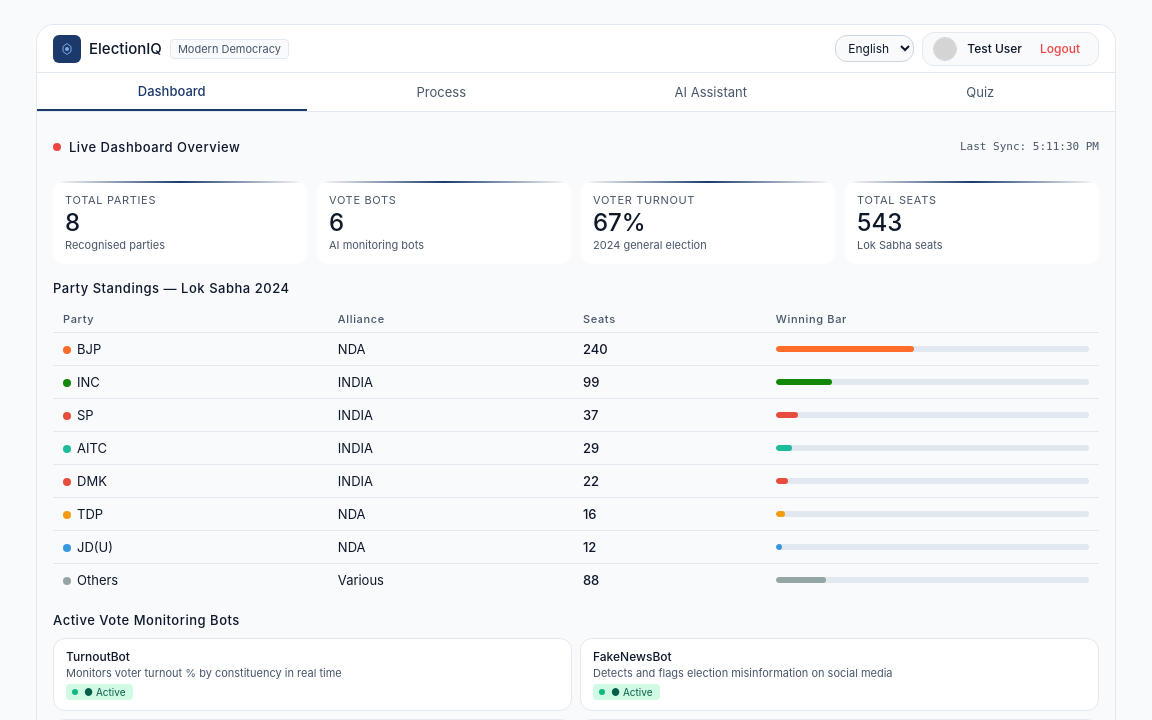
shows a friendly error message when the AI endpoint returns a failure
This screenshot has width=1152, height=720.
Click the tab "AI Assistant" at (711, 92), box [576,73,846,111]
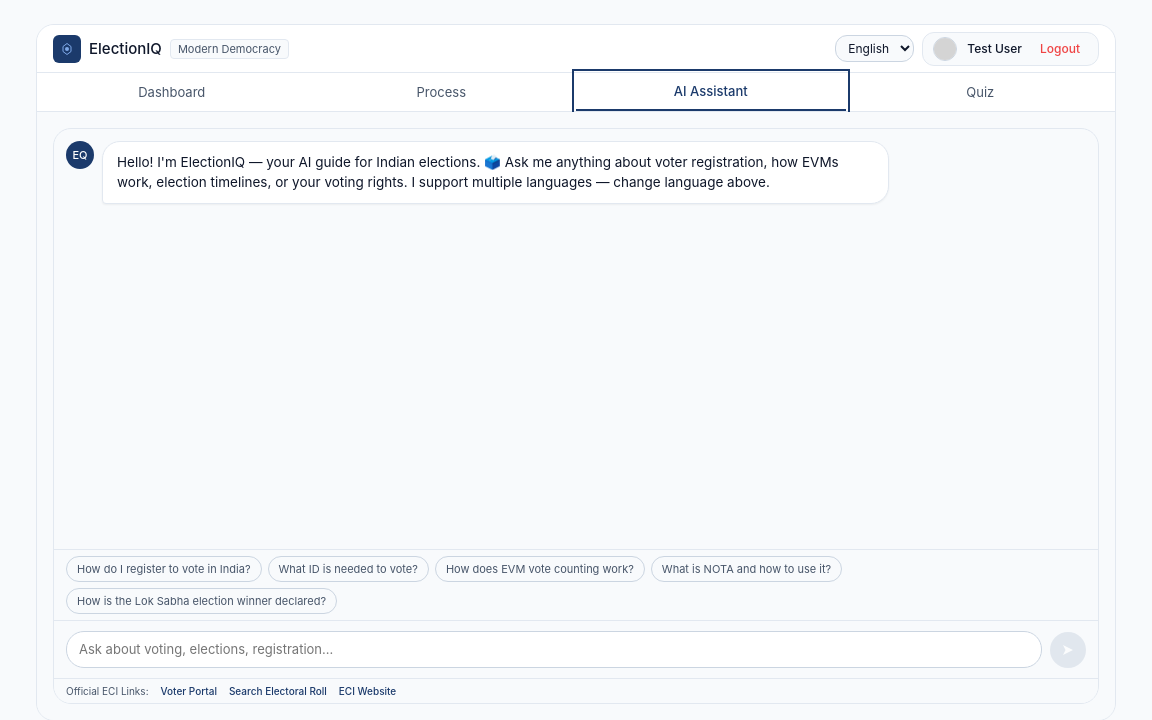
Type "Test error prompt" into the text box with placeholder "Ask about voting, elections, registration…" at (554, 649), box [66,630,1042,668]
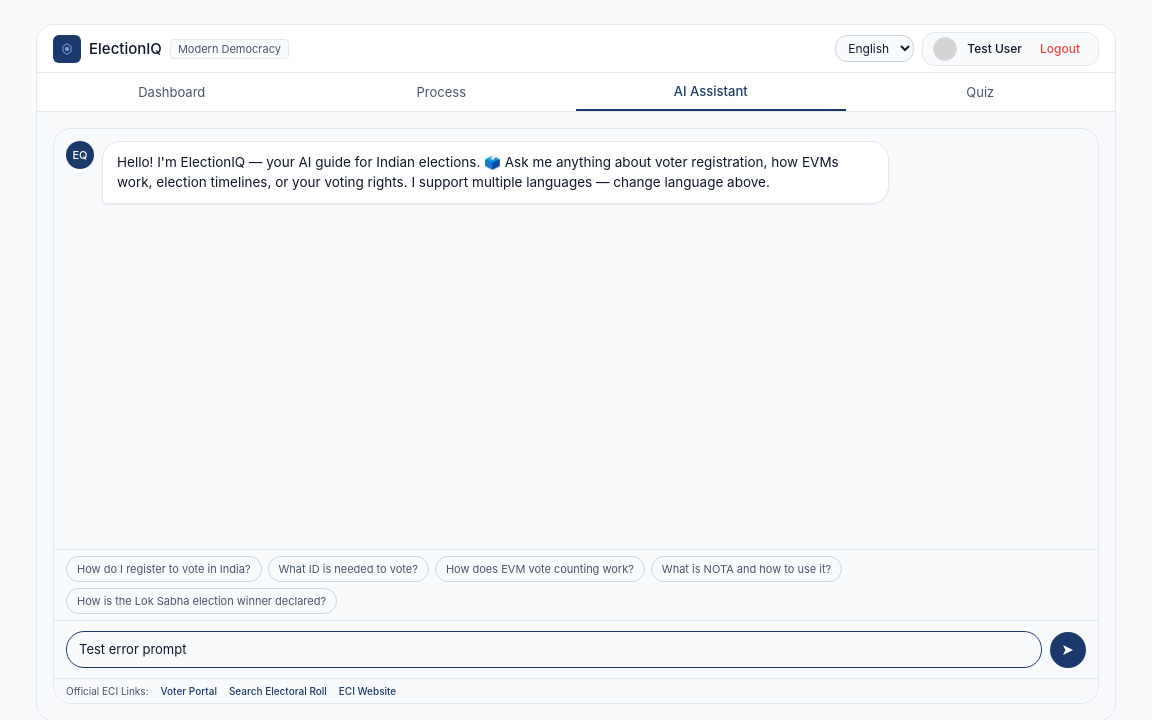
Click the button named "Send message" at (1068, 650), box [1050,632,1086,668]
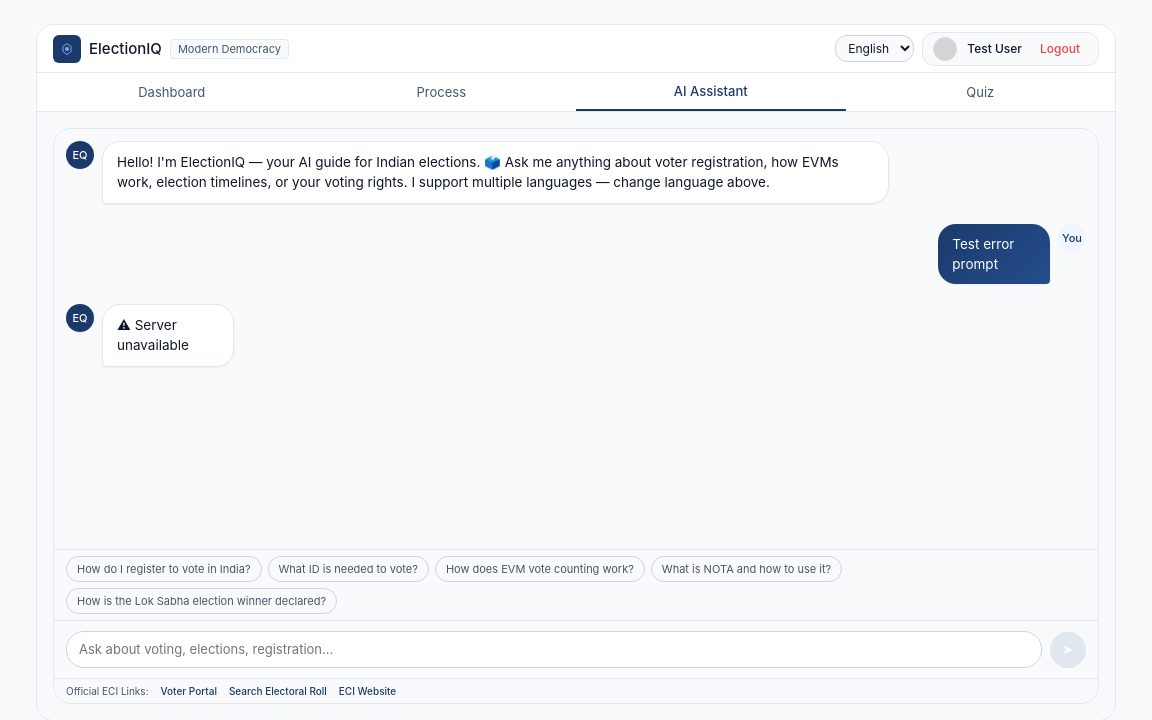
Now the text "⚠ Server unavailable" is shown, box [102,304,234,366]
